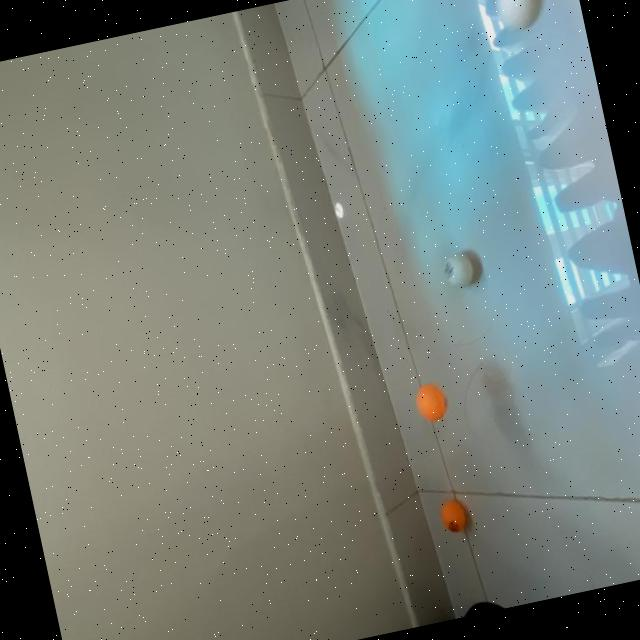ping-pong-ball: (490, 0, 546, 33), (412, 380, 450, 426), (440, 252, 476, 292), (435, 496, 468, 537)
